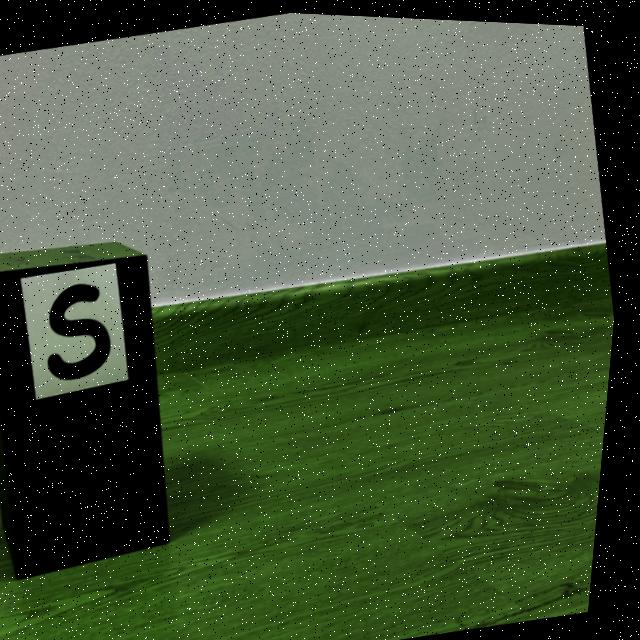S: (55, 283, 117, 379)
